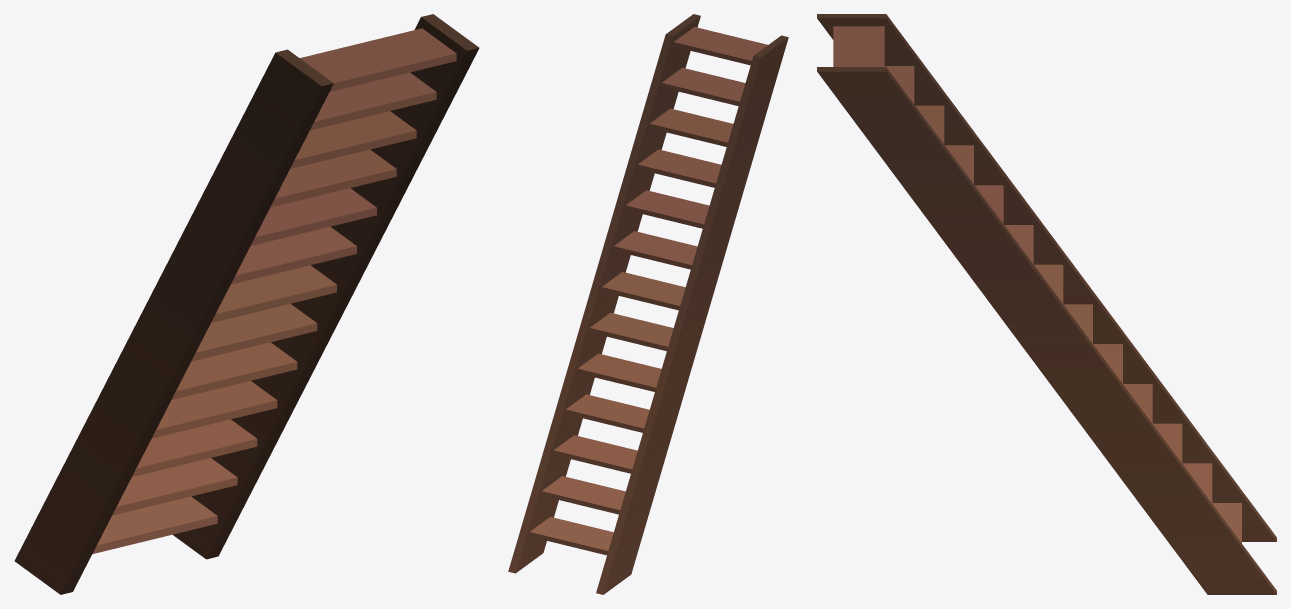
Rendered from FireEscape_E_2.fbx.
The picture shows the model from 3 angles, left to right: view 1: azimuth 30°, elevation 25°; view 2: azimuth 150°, elevation 25°; view 3: azimuth 270°, elevation 25°; orthographic projection. The views are drawn at different scales.
Visible parts, largest first — view 1: FireEscape_E_2; view 2: FireEscape_E_2; view 3: FireEscape_E_2.
Boxes of the visible parts, x1=… form: FireEscape_E_2: x1=14, y1=14, x2=479, y2=594; FireEscape_E_2: x1=508, y1=14, x2=788, y2=594; FireEscape_E_2: x1=817, y1=14, x2=1276, y2=594.
Size of the model in its own units: 76.75 by 325 by 259.
